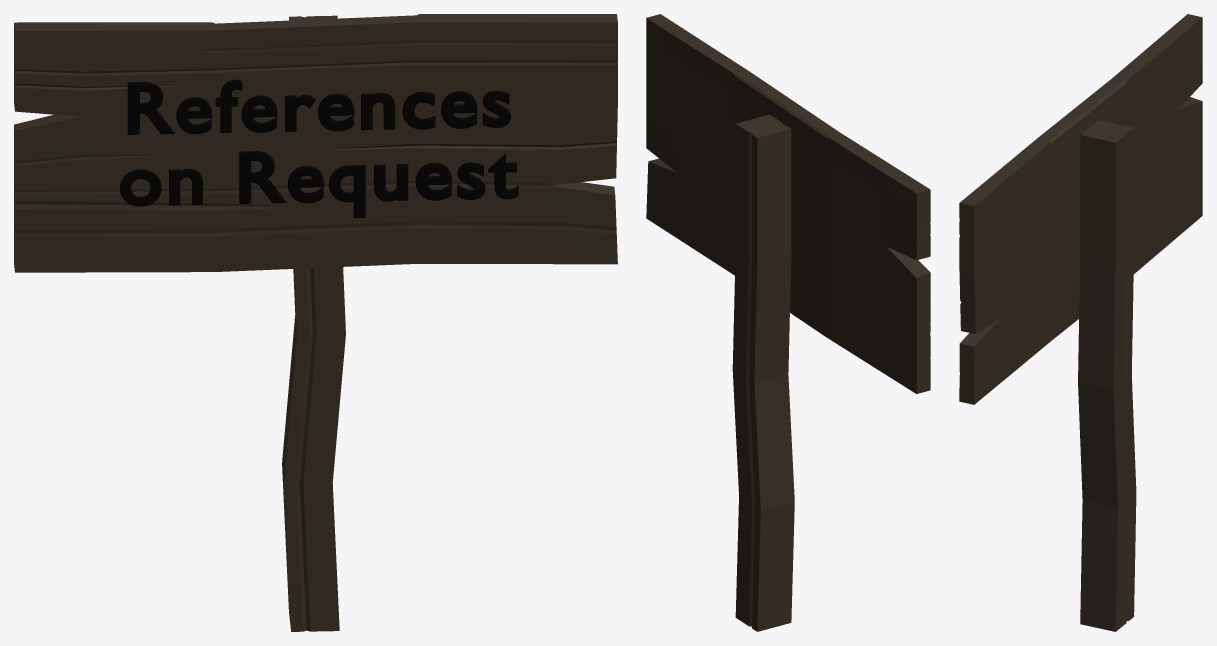
The model's file is sign.gltf.
3 renders of one model, left to right at view 1: azimuth 30°, elevation 25°; view 2: azimuth 150°, elevation 25°; view 3: azimuth 270°, elevation 25°, orthographic. The views are drawn at different scales.
Parts seen in each view (by area): view 1: Cube.009; view 2: Cube.009; view 3: Cube.009.
Boxes of the visible parts, bbox=[...] form: Cube.009: bbox=[14, 14, 617, 631]; Cube.009: bbox=[646, 14, 930, 631]; Cube.009: bbox=[959, 14, 1202, 631].
Size of the model in its own units: 1.7 by 2.11 by 0.9203.
